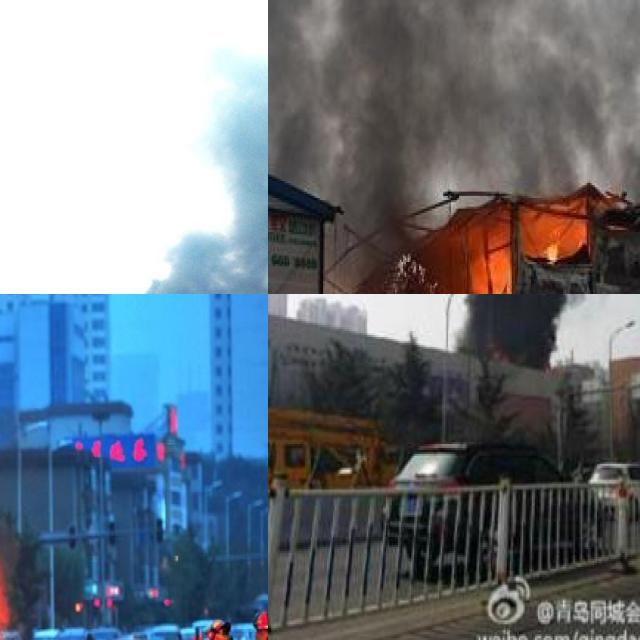fire: (476, 255, 515, 294), (539, 236, 563, 262)
smoke: (268, 0, 640, 294), (129, 0, 268, 294)
